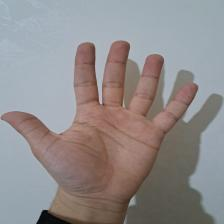five: (4, 39, 198, 203)
